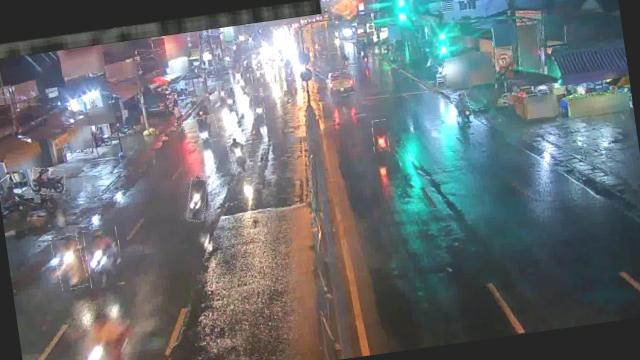Bike: (82, 226, 124, 288), (51, 232, 87, 290), (184, 176, 211, 222), (29, 166, 66, 196), (226, 135, 250, 175), (452, 91, 473, 126), (371, 119, 390, 153), (196, 114, 219, 142), (250, 93, 266, 124), (223, 87, 237, 112), (216, 81, 227, 103)
Car: (325, 69, 356, 97)
